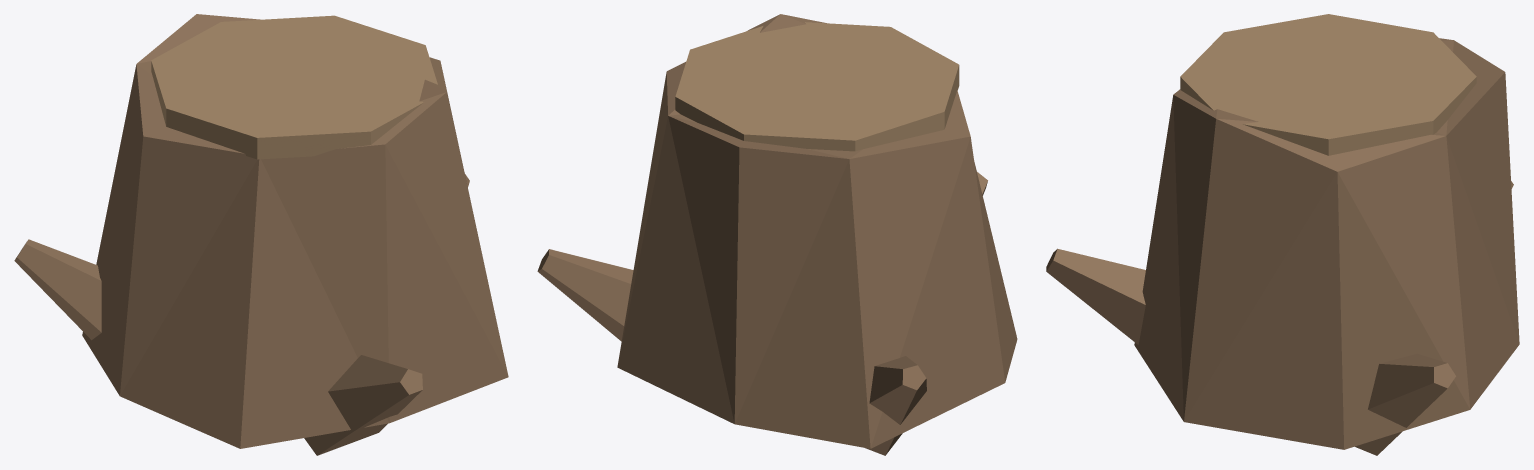
The model's file is Stump.fbx.
3 views of the same model, side by side, from view 1: azimuth 30°, elevation 25°; view 2: azimuth 150°, elevation 25°; view 3: azimuth 270°, elevation 25° (orthographic).
Visible parts, largest first — view 1: Stump_fbx; view 2: Stump_fbx; view 3: Stump_fbx.
Boxes of the visible parts, <box> form: Stump_fbx: <box>14,14,508,455</box>; Stump_fbx: <box>537,14,1017,455</box>; Stump_fbx: <box>1046,14,1519,455</box>.
Bounding box in the file's own units: 0.7166 × 0.5454 × 0.7025.
